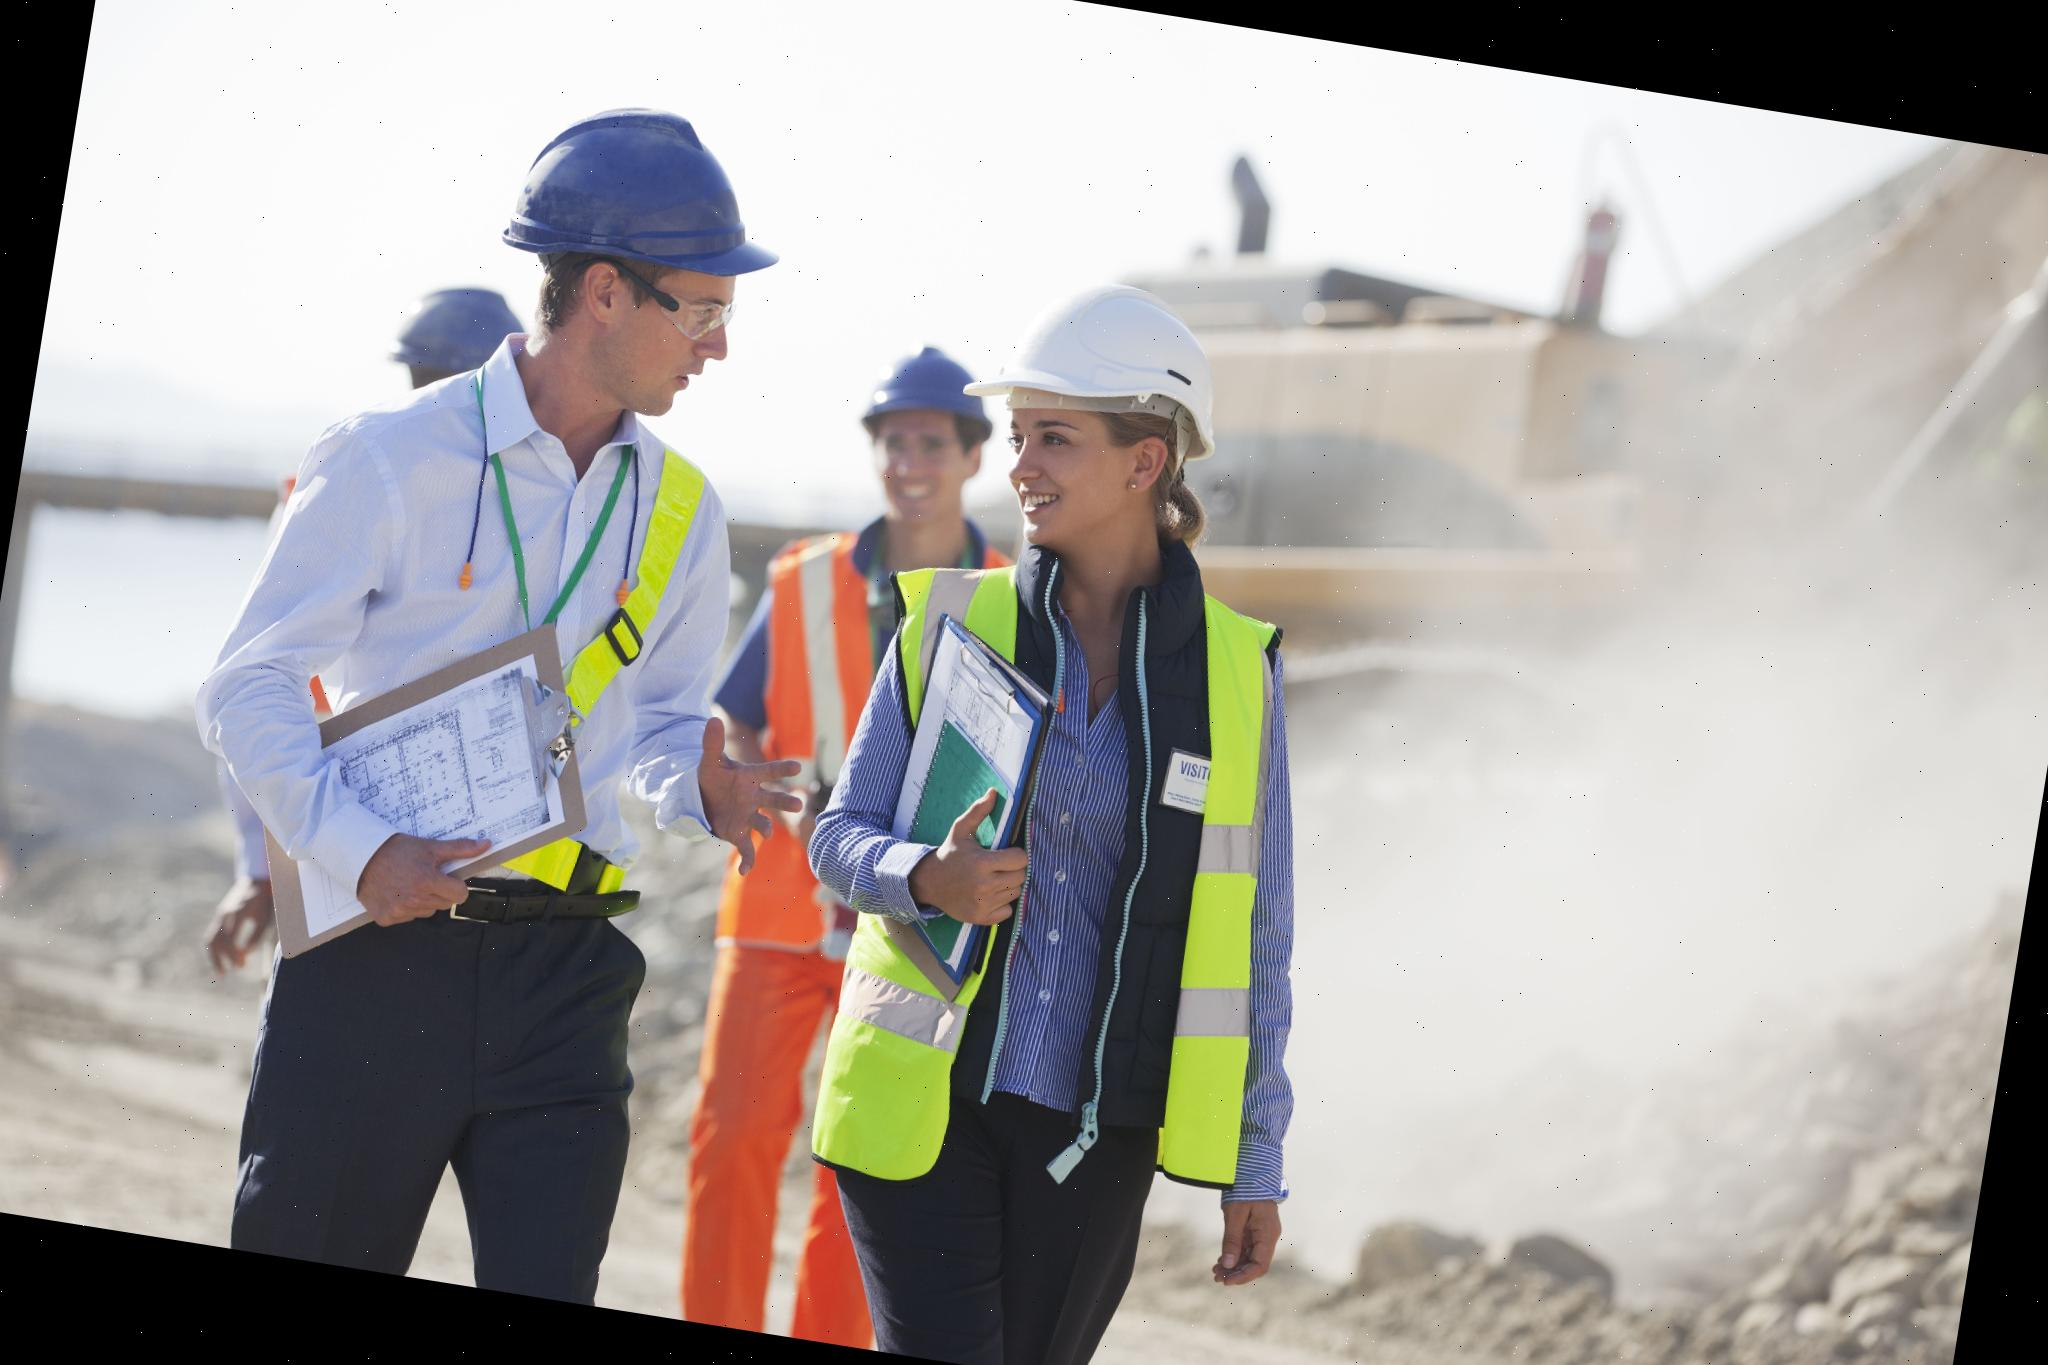helmet: (504, 85, 804, 297), (959, 251, 1255, 452), (387, 270, 530, 395), (859, 326, 990, 451)
wear: (818, 559, 1317, 1182), (239, 385, 731, 920), (723, 524, 949, 948)
